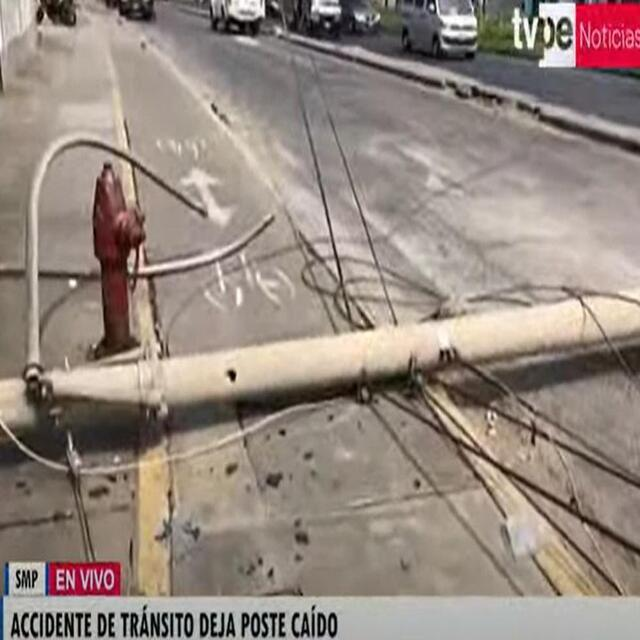Inclined Pole: (0, 130, 640, 449)
